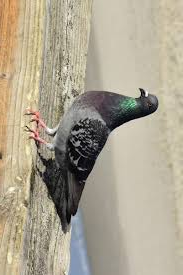pigeon: (22, 84, 161, 229)
